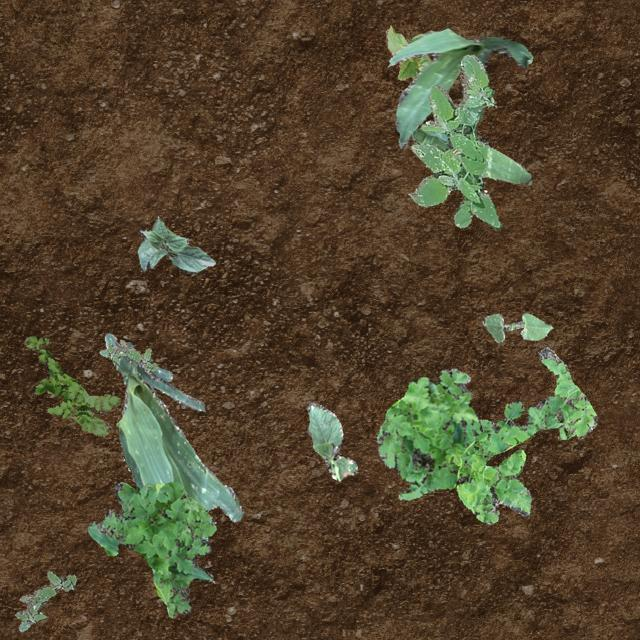crop: (104, 332, 242, 540), (388, 28, 532, 148), (410, 126, 530, 182), (136, 215, 214, 272), (306, 402, 356, 479), (384, 26, 430, 80), (482, 312, 552, 342)
weed: (456, 346, 596, 522), (86, 481, 216, 616), (408, 54, 500, 228), (376, 368, 482, 500), (24, 334, 120, 436), (14, 570, 76, 630), (98, 338, 156, 371)
